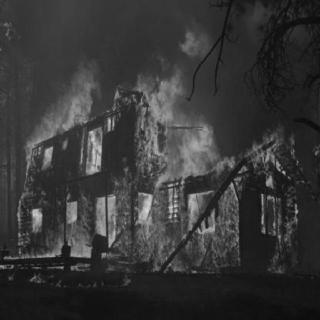Fire: (19, 43, 313, 281)
